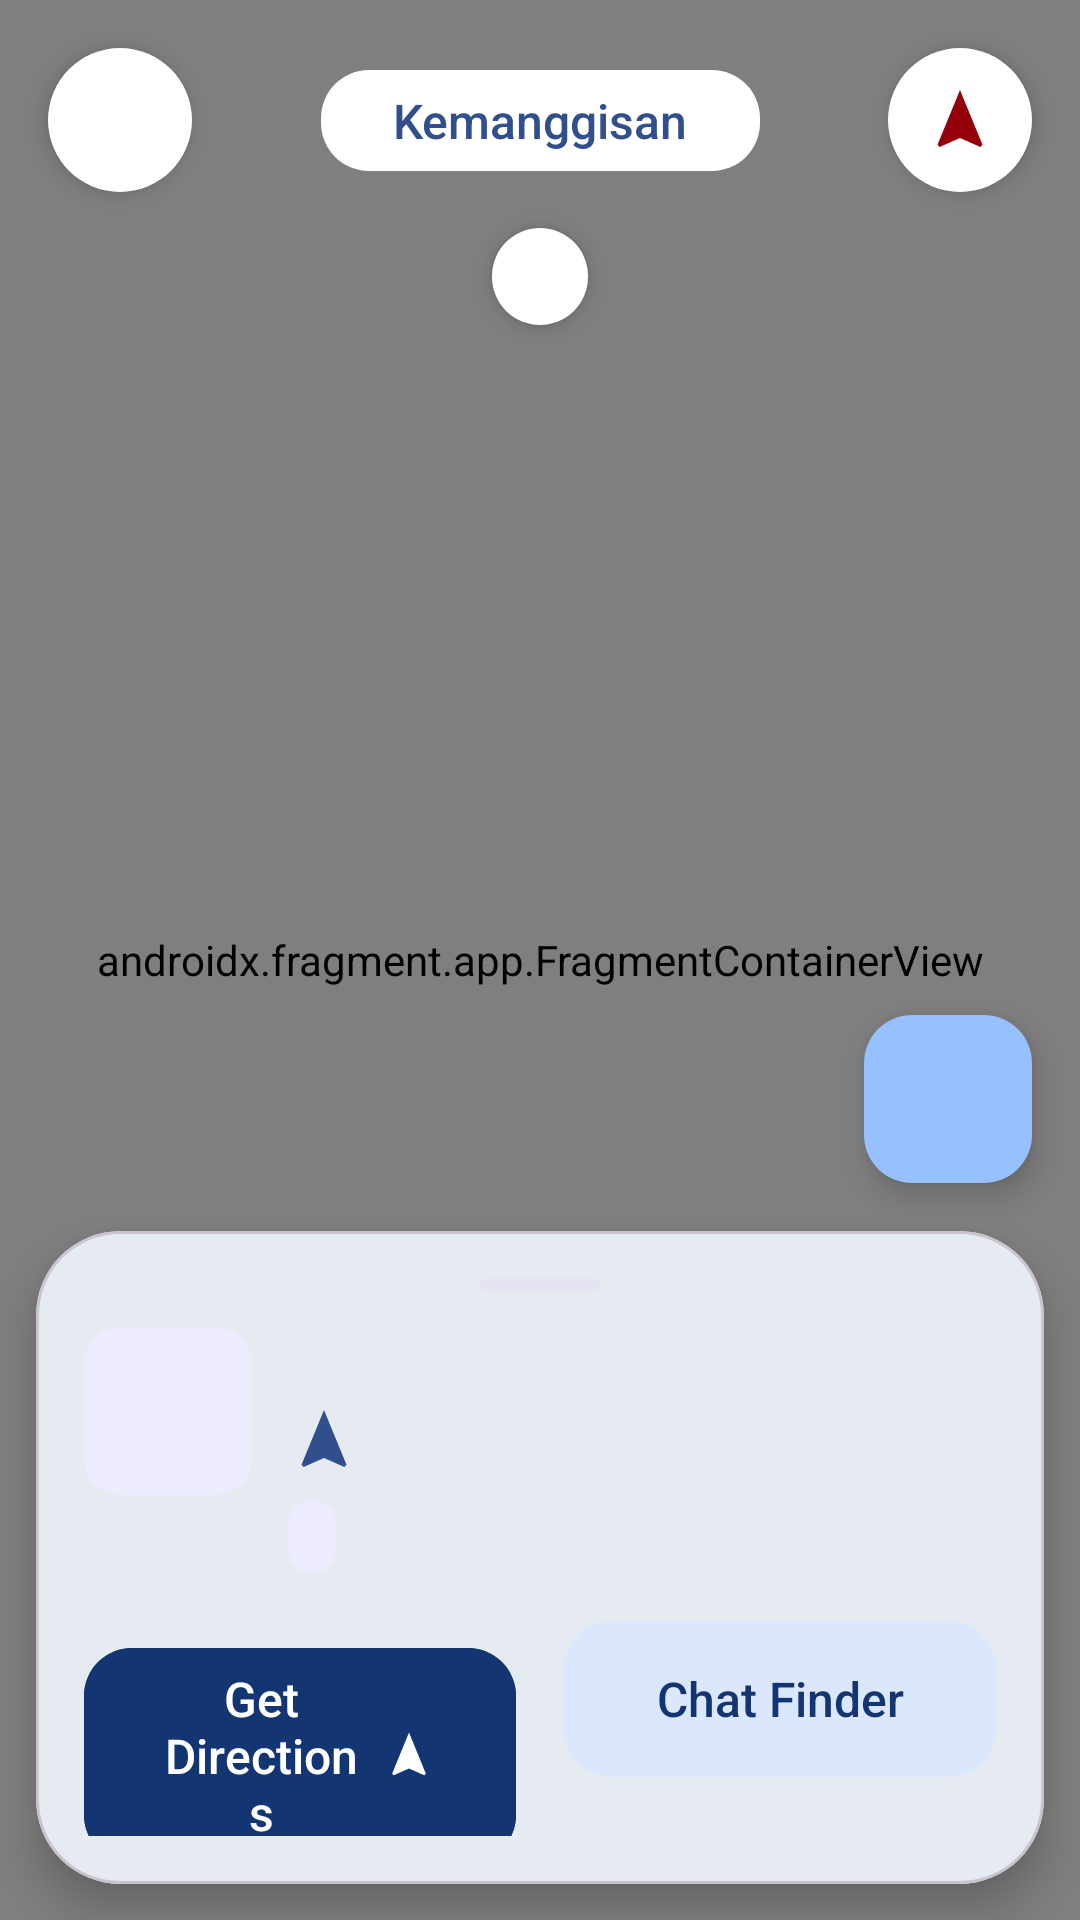

Where to tap for icons on this 1080×1920 app screen, as (x=x, y=y):
Reset map orientation: (x=960, y=120)
